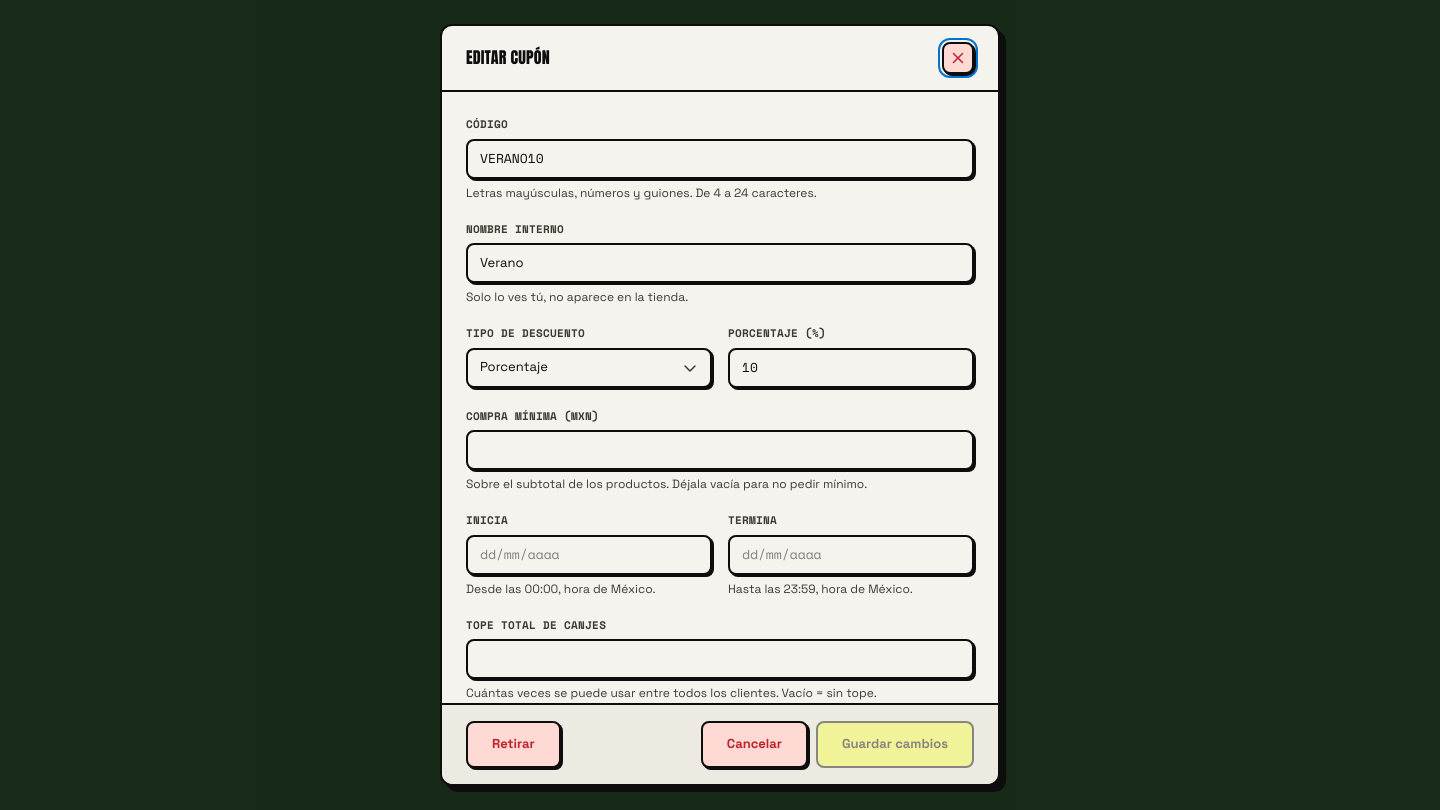
Test: CouponModal › otro error del servidor se muestra en el aviso del modal y no cierra
The image size is (1440, 810).
Type "x" into the field labelled "Nombre interno" at [720, 263], box top-left (480, 254), bottom-right (960, 272)
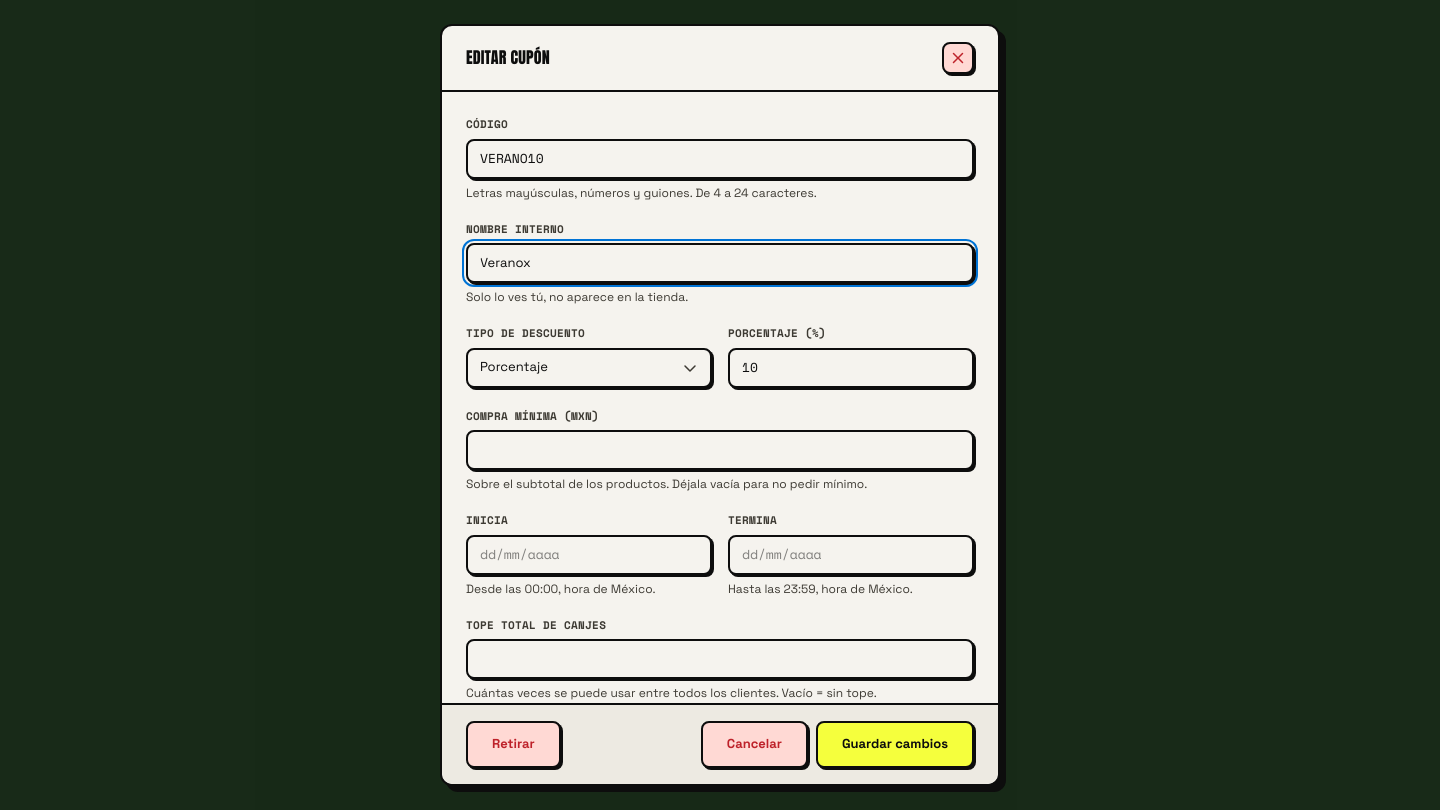
Click the button "Guardar cambios" at [895, 745], box top-left (816, 721), bottom-right (974, 768)
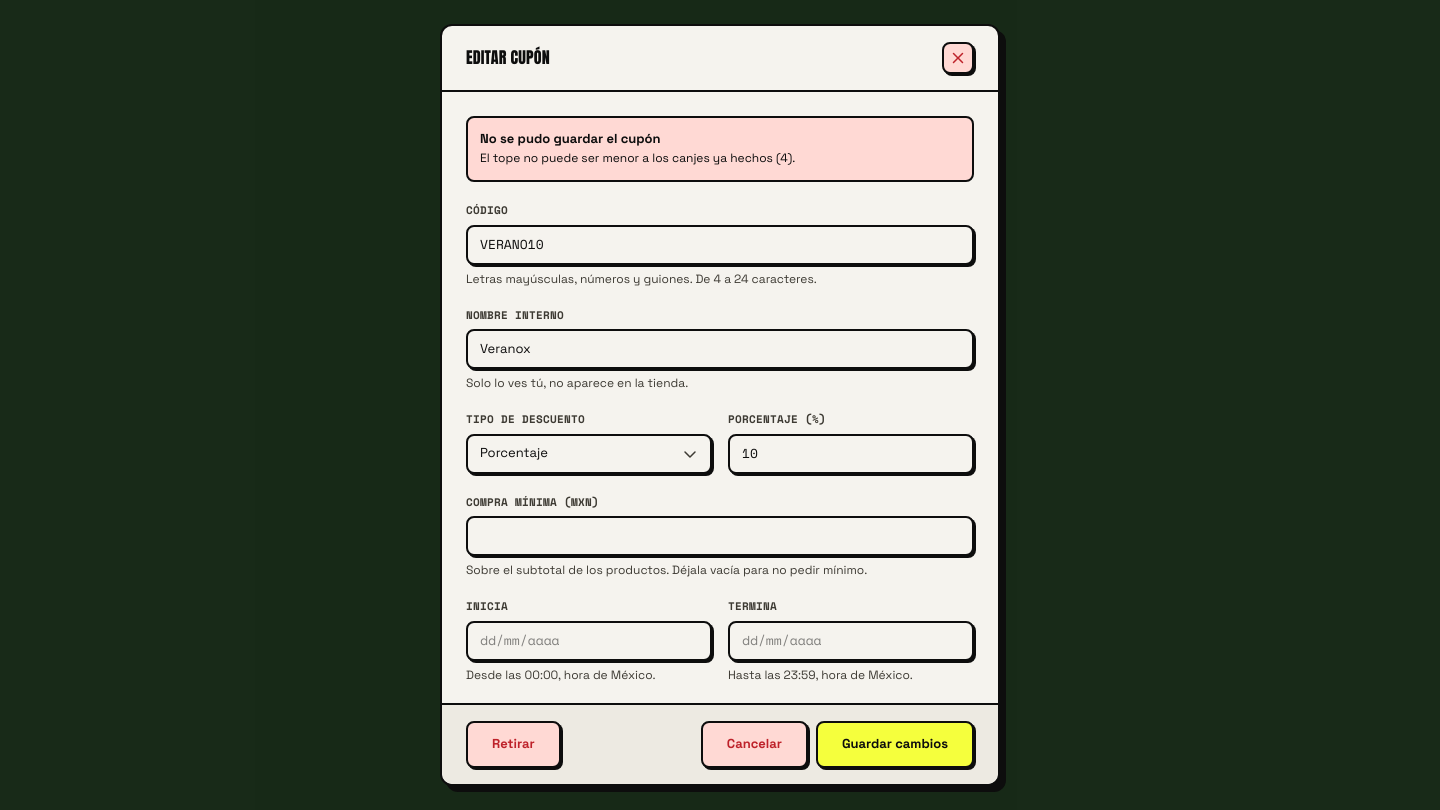
Now the text "El tope no puede ser menor a los canjes ya hechos (4)." is shown, box top-left (480, 149), bottom-right (795, 168)
